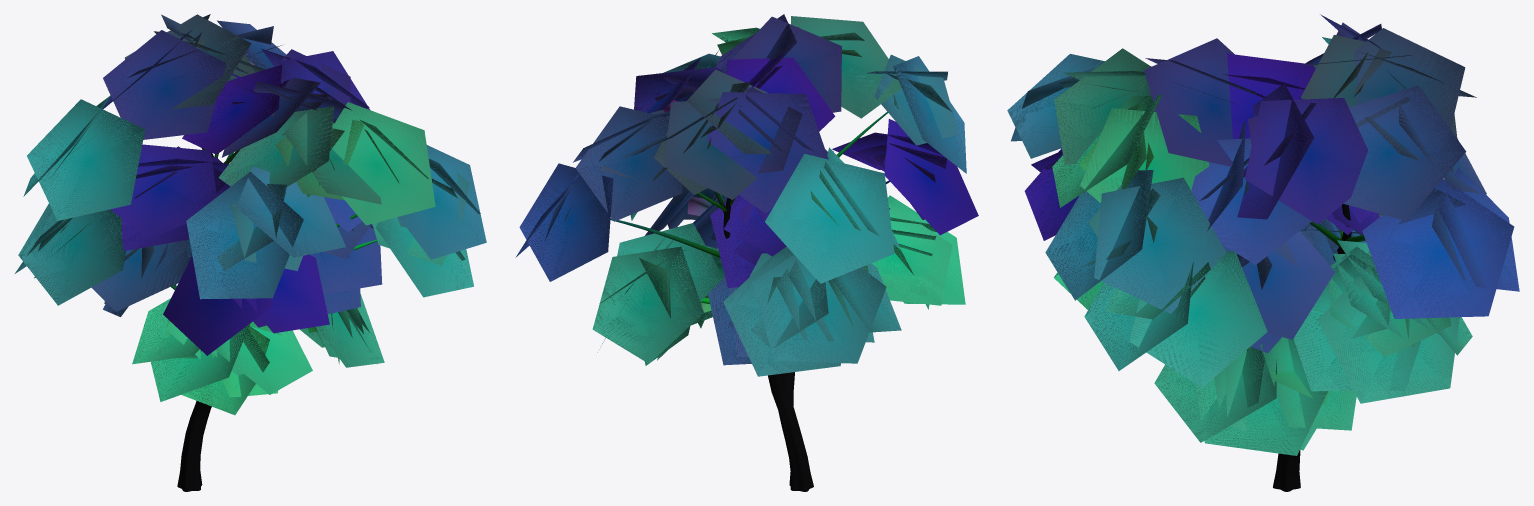
The model's file is arbol2.fbx.
3 renders of one model, left to right at view 1: azimuth 30°, elevation 25°; view 2: azimuth 150°, elevation 25°; view 3: azimuth 270°, elevation 25°, orthographic. The views are drawn at different scales.
Parts seen in each view (by area): view 1: Tree_2, Tree_0; view 2: Tree_2, Tree_0, Tree_1; view 3: Tree_2, Tree_0.
Part boxes in pixels (box(x1,y1,x2,y2)): Tree_2: box(15, 14, 486, 415); Tree_0: box(171, 148, 377, 491); Tree_2: box(515, 14, 978, 376); Tree_0: box(610, 111, 889, 491); Tree_1: box(663, 100, 715, 312); Tree_2: box(1007, 14, 1519, 455); Tree_0: box(1273, 204, 1365, 491).
Bounding box in the file's own units: 255 × 291 × 287.
